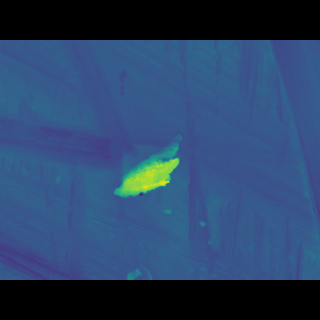Loch: (109, 137, 187, 191)
